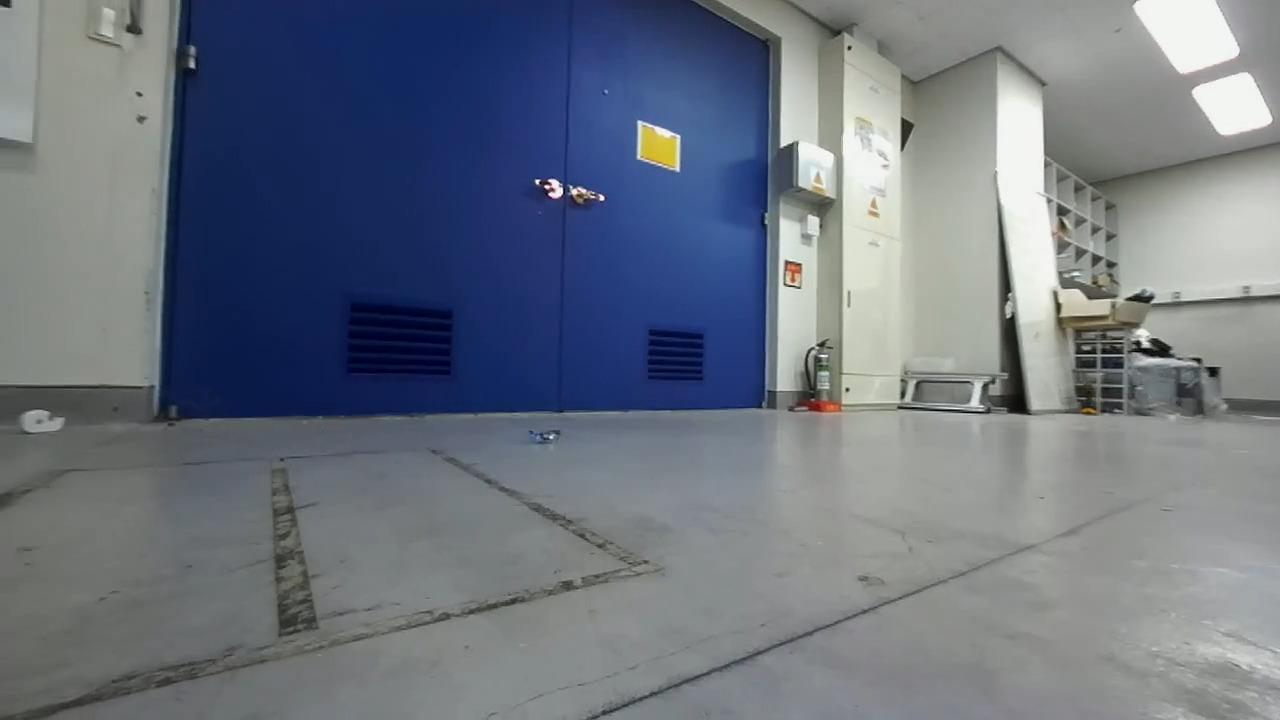crazyflie: (519, 423, 570, 449)
